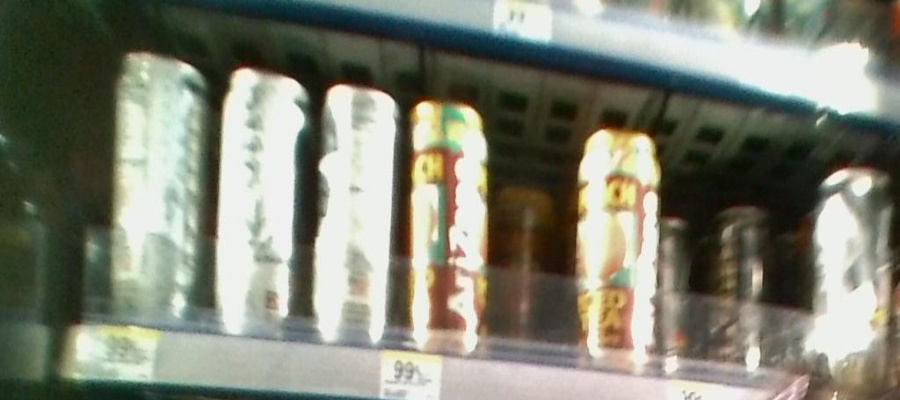bottle: (109, 42, 210, 326), (311, 72, 405, 349), (215, 69, 308, 337), (408, 91, 494, 356), (575, 123, 664, 371), (813, 162, 895, 391), (713, 191, 769, 379), (497, 165, 554, 347), (665, 207, 694, 376)
